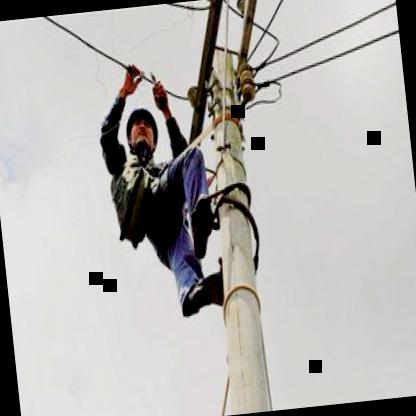helmet: (120, 100, 163, 168)
